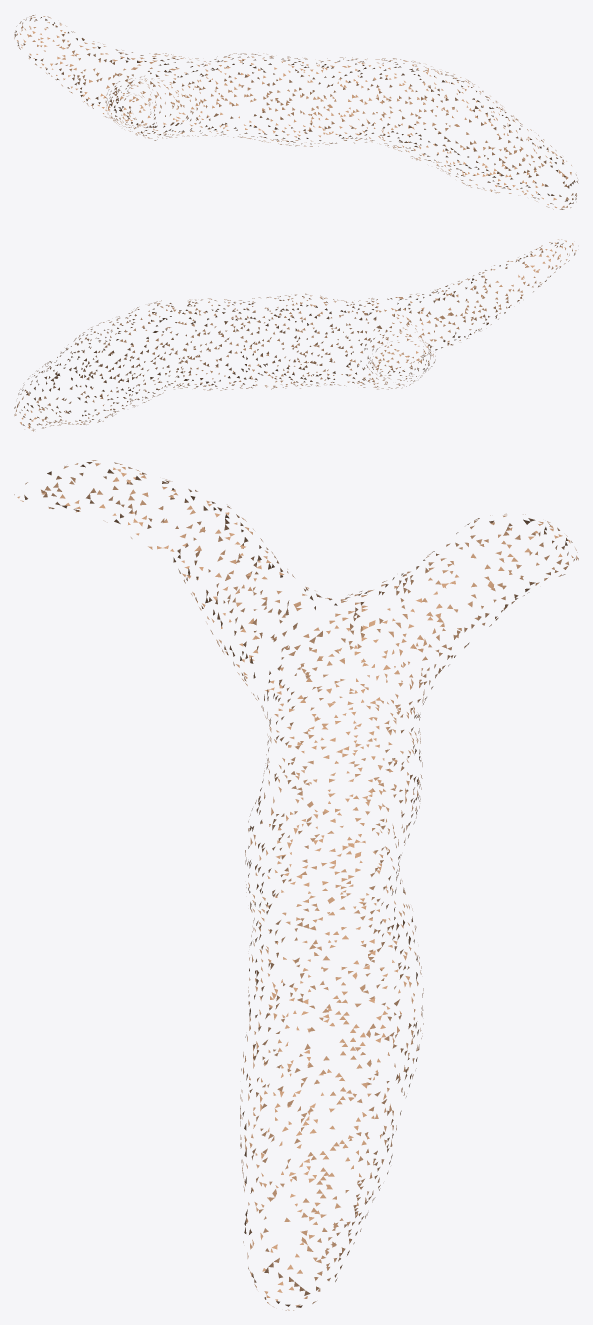
File: morph_005.glb
The picture shows the model from 3 angles, top to bottom: view 1: azimuth 30°, elevation 25°; view 2: azimuth 150°, elevation 25°; view 3: azimuth 270°, elevation 25°; orthographic projection. The views are drawn at different scales.
Bounding box in the file's own units: 110 × 55.99 × 63.35.
